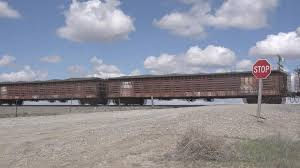stop: (252, 58, 271, 79)
